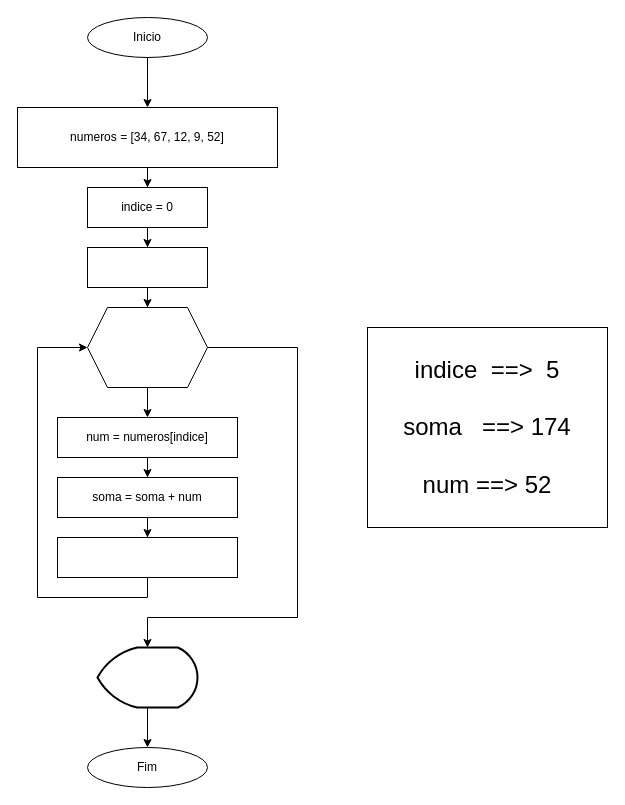
Some shapes in this 625 by 805 pixel diagram are drawn without their labels. Here are the shapes that lost their labels. From the top down, the centre of each, then its label:
At (147,267): "soma = 0".
At (147,347): "indice < 5".
At (147,557): "indice = indice + 1".
At (147,677): "soma".
